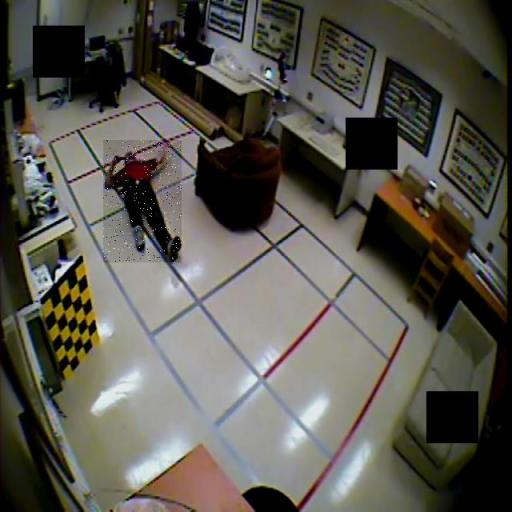Fall: (103, 140, 182, 262)
